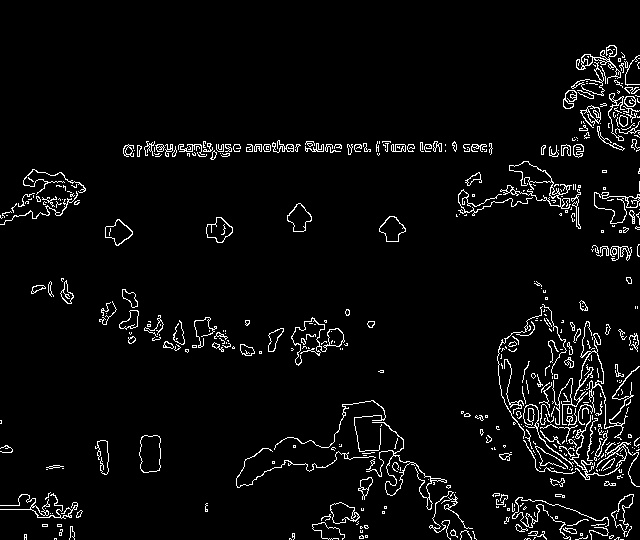right: (95, 212, 140, 257), (199, 210, 240, 250)
up: (278, 196, 324, 244), (373, 209, 413, 251)
